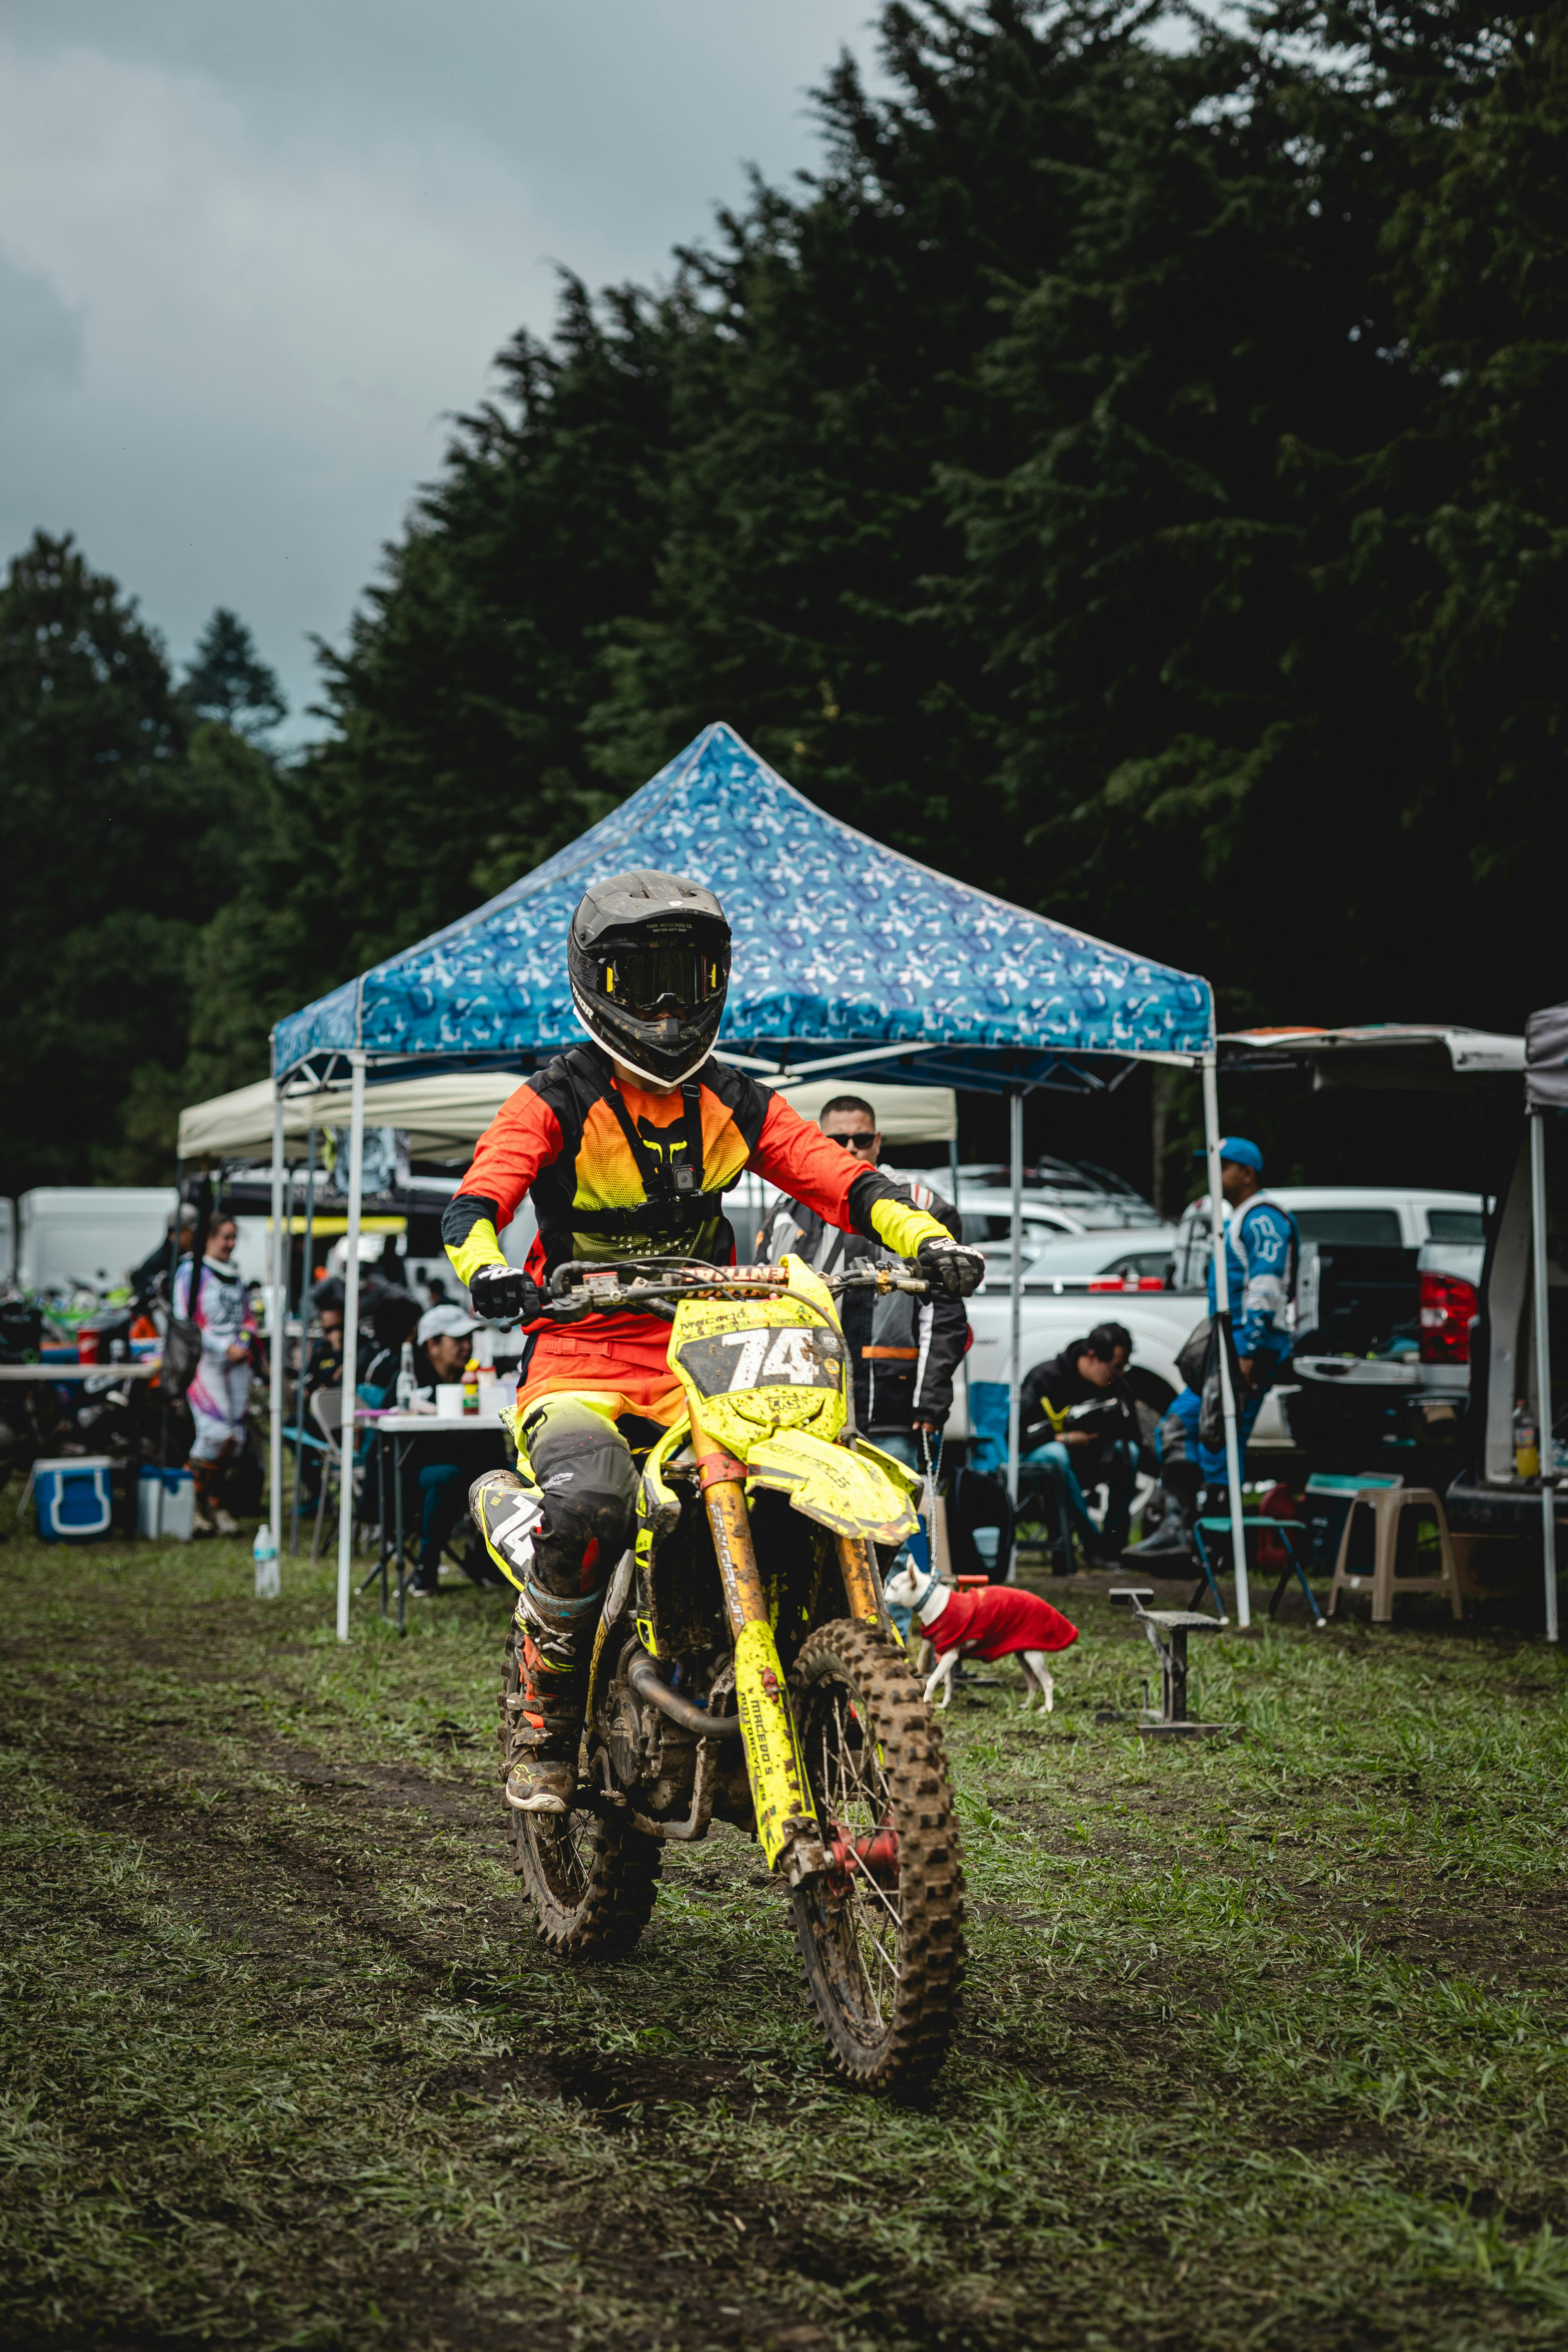capacete: (558, 865, 747, 1092)
